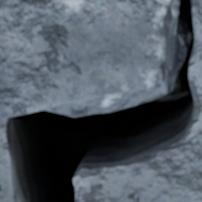brick: (0, 0, 174, 118)
crack: (2, 0, 199, 201)
